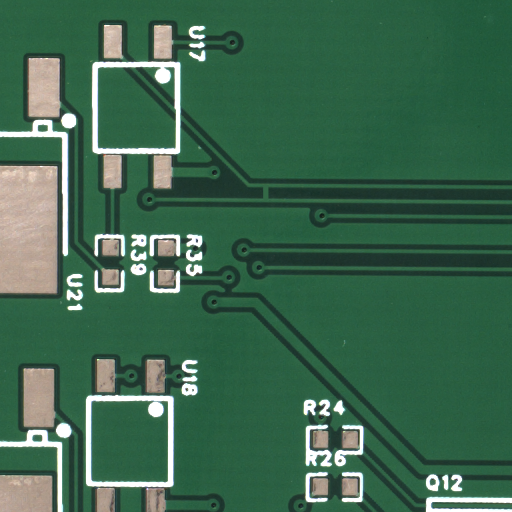Short: (265, 192, 278, 209)
